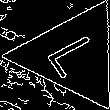L_NE: (38, 29, 107, 82)
